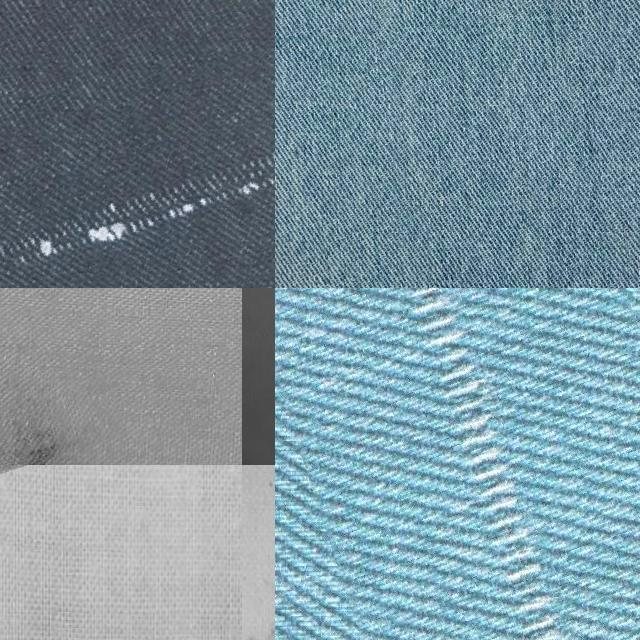pulled_or_thick_thread: (391, 265, 565, 639)
